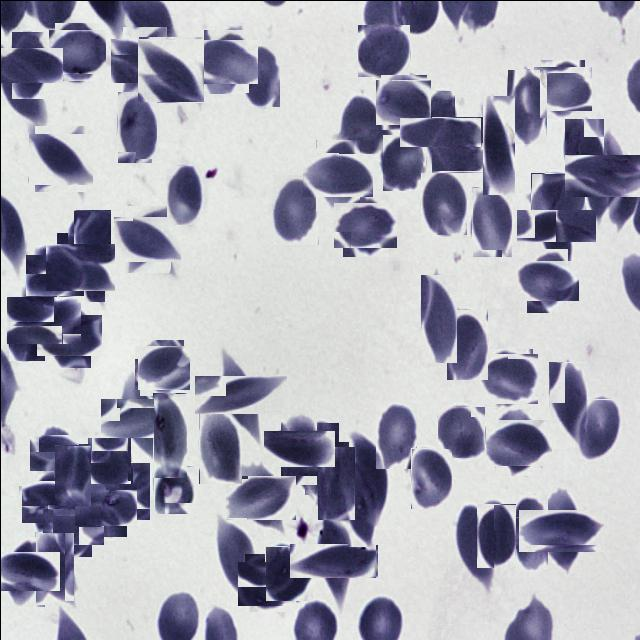red blood cell: (208, 362, 272, 428), (138, 36, 202, 102), (528, 498, 592, 562), (574, 144, 636, 207), (110, 387, 172, 448), (302, 530, 363, 591), (12, 289, 73, 350), (212, 519, 254, 602), (30, 129, 89, 188), (50, 238, 110, 296), (454, 501, 493, 589), (232, 468, 290, 526), (308, 146, 366, 203), (118, 210, 176, 267), (272, 174, 318, 244), (490, 414, 547, 470), (420, 274, 456, 362), (482, 95, 514, 194), (571, 398, 621, 461), (198, 410, 241, 483), (412, 104, 468, 160), (116, 32, 172, 88), (527, 198, 583, 254), (348, 432, 386, 514), (480, 350, 534, 406), (506, 68, 546, 143), (503, 504, 558, 558), (530, 172, 584, 227), (548, 361, 586, 438), (563, 117, 603, 190), (338, 198, 392, 252), (23, 474, 77, 528), (198, 34, 252, 88), (429, 117, 483, 171), (271, 422, 325, 476), (152, 392, 186, 477), (116, 90, 156, 162), (446, 309, 487, 379), (42, 308, 96, 361), (420, 172, 466, 234), (34, 531, 73, 604), (78, 478, 132, 530), (294, 432, 348, 484), (0, 543, 51, 598), (471, 186, 511, 256), (338, 95, 386, 153), (520, 254, 573, 306), (375, 402, 416, 468), (536, 62, 588, 114), (357, 24, 409, 76), (3, 38, 55, 90), (317, 446, 354, 519), (66, 209, 110, 270), (241, 556, 292, 608), (264, 545, 312, 600), (50, 26, 101, 77), (410, 447, 451, 508), (136, 342, 186, 392), (378, 76, 428, 126), (29, 249, 79, 299), (436, 405, 484, 457), (476, 503, 515, 567), (240, 46, 279, 108), (347, 460, 375, 546), (48, 501, 97, 550), (108, 461, 149, 519), (53, 444, 90, 506), (382, 134, 422, 190), (86, 436, 130, 486), (166, 165, 203, 224), (153, 465, 196, 513), (32, 431, 75, 474), (8, 310, 44, 360)
